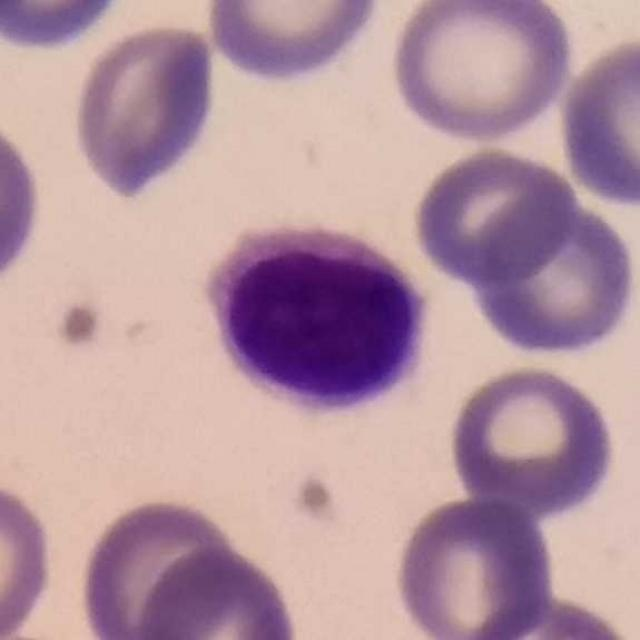Lymphocyte: (193, 212, 443, 426)
Platelets: (54, 297, 104, 351), (293, 472, 336, 521)
RBC: (458, 180, 640, 361), (68, 19, 224, 202), (385, 0, 579, 147), (444, 360, 621, 518), (73, 493, 244, 640), (407, 144, 580, 288), (389, 492, 556, 640), (130, 542, 305, 640), (200, 0, 387, 88), (553, 31, 640, 212), (0, 474, 58, 640), (0, 108, 48, 295), (451, 593, 639, 640), (0, 0, 140, 55)
